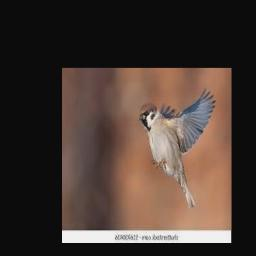Sparrow: (140, 88, 216, 207)
